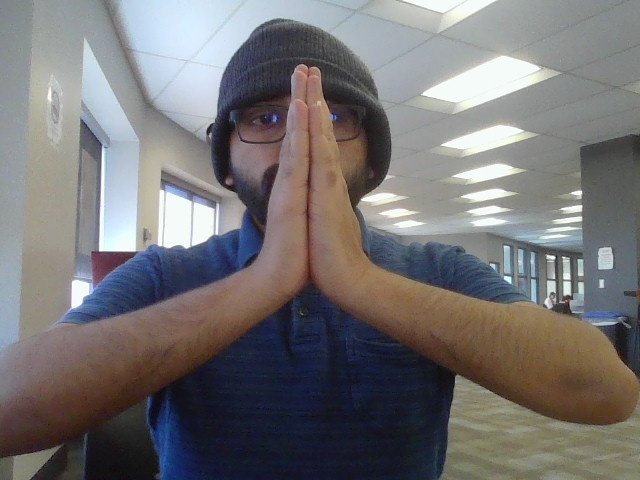start: (254, 60, 378, 310)
